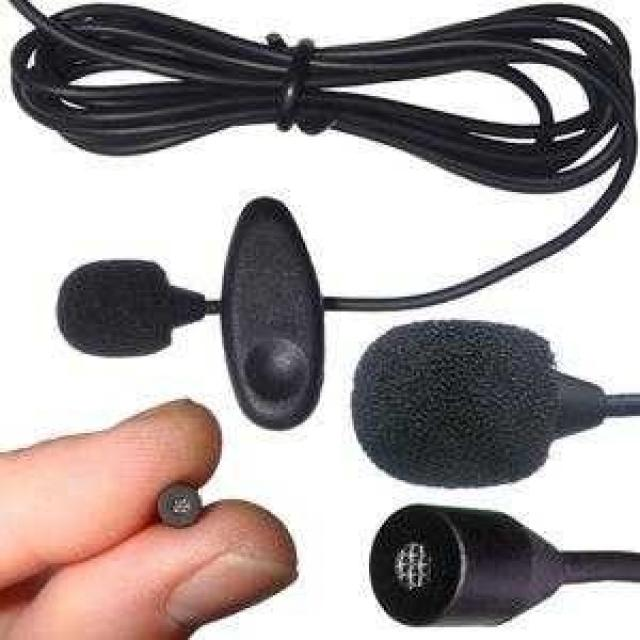microphone: (352, 322, 624, 487), (374, 504, 635, 628), (52, 245, 294, 364), (149, 478, 258, 540)
